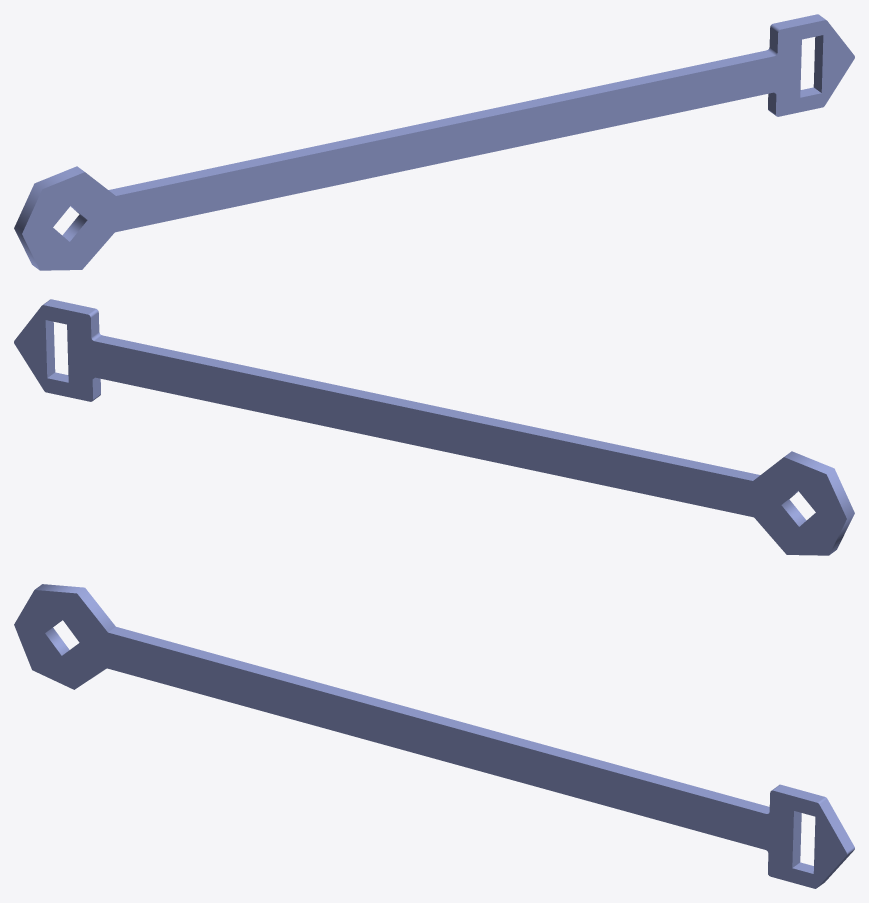
Rendered from Copie de Pi_X2_00e8_X0_ce14^Horloge Comtoise Verge - Sonnerie.obj.
3 views of the same model, one above another, from view 1: azimuth 30°, elevation 25°; view 2: azimuth 150°, elevation 25°; view 3: azimuth 330°, elevation 25° (orthographic).
Visible parts, largest first — view 1: Face_23, Face_8, Face_7; view 2: Face_1, Face_8, Face_7; view 3: Face_23, Face_8, Face_7, Face_14.
Part boxes in pixels (x1,y1,x2,y2): Face_23: [22, 20, 854, 270]; Face_8: [108, 50, 774, 195]; Face_7: [14, 166, 84, 270]; Face_1: [14, 305, 846, 555]; Face_8: [94, 335, 760, 480]; Face_7: [784, 451, 854, 555]; Face_23: [14, 590, 846, 888]; Face_8: [108, 627, 769, 813]; Face_7: [35, 584, 115, 632]; Face_14: [819, 799, 854, 852].
Bounding box in the file's own units: 0.0603 × 0.00798 × 0.001.
